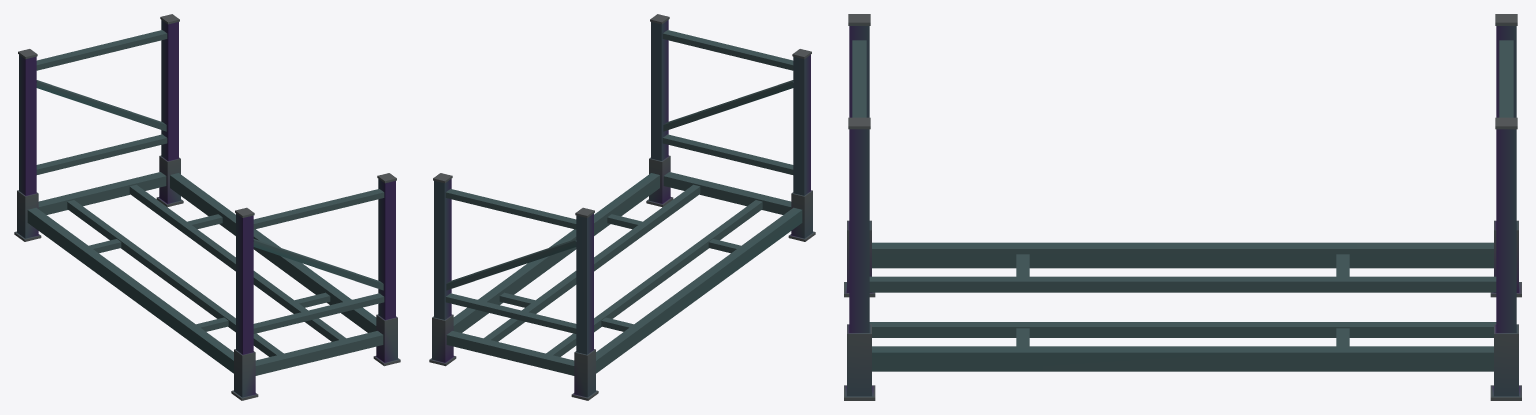
The model's file is simready-storage_tire_rack_b01.glb.
3 views of the same model, side by side, from view 1: azimuth 30°, elevation 25°; view 2: azimuth 150°, elevation 25°; view 3: azimuth 270°, elevation 25° (orthographic). The views are drawn at different scales.
Visible parts, largest first — view 1: side_rail.001, post.001, side_rail, post.003, post, post.002, inner_rail.001, inner_rail, end_beam, end_beam.001, top_bar, opening_bar (+4 smaller); view 2: side_rail.001, post.003, side_rail, post.001, post.002, post, inner_rail.001, inner_rail, end_beam.001, end_beam, top_bar.001, opening_bar (+4 smaller); view 3: side_rail.001, side_rail, inner_rail.001, inner_rail, post, post.002, post.001, post.003, top_bar, top_bar.001.
Boxes of the visible parts, x1,y1,x2,y2 form: side_rail.001: (27, 207, 233, 373); post.001: (231, 207, 258, 400); side_rail: (170, 173, 376, 332); post.003: (14, 49, 41, 241); post: (373, 173, 400, 366); post.002: (156, 14, 183, 207); inner_rail.001: (67, 200, 291, 367); inner_rail: (129, 184, 353, 352); end_beam: (255, 331, 383, 375); end_beam.001: (38, 172, 166, 214); top_bar: (253, 189, 384, 229); opening_bar: (253, 293, 384, 333); side_rail.001: (596, 207, 802, 373); post.003: (571, 207, 598, 400); side_rail: (453, 173, 659, 332); post.001: (788, 49, 815, 241); post.002: (429, 173, 456, 366); post: (646, 14, 673, 207); inner_rail.001: (538, 200, 762, 367); inner_rail: (476, 184, 700, 352); end_beam.001: (446, 331, 574, 375); end_beam: (663, 172, 791, 214); top_bar.001: (445, 189, 576, 229); opening_bar: (662, 134, 793, 174); side_rail.001: (872, 242, 1493, 268); side_rail: (872, 346, 1493, 371); inner_rail.001: (869, 276, 1496, 292); inner_rail: (869, 322, 1496, 337); post: (844, 117, 875, 400); post.002: (1490, 117, 1521, 400); post.001: (844, 14, 875, 297); post.003: (1490, 14, 1521, 297); top_bar: (852, 40, 866, 117); top_bar.001: (1499, 40, 1513, 117).
Bounding box in the file's own units: 0.93 × 1.03 × 2.31.
